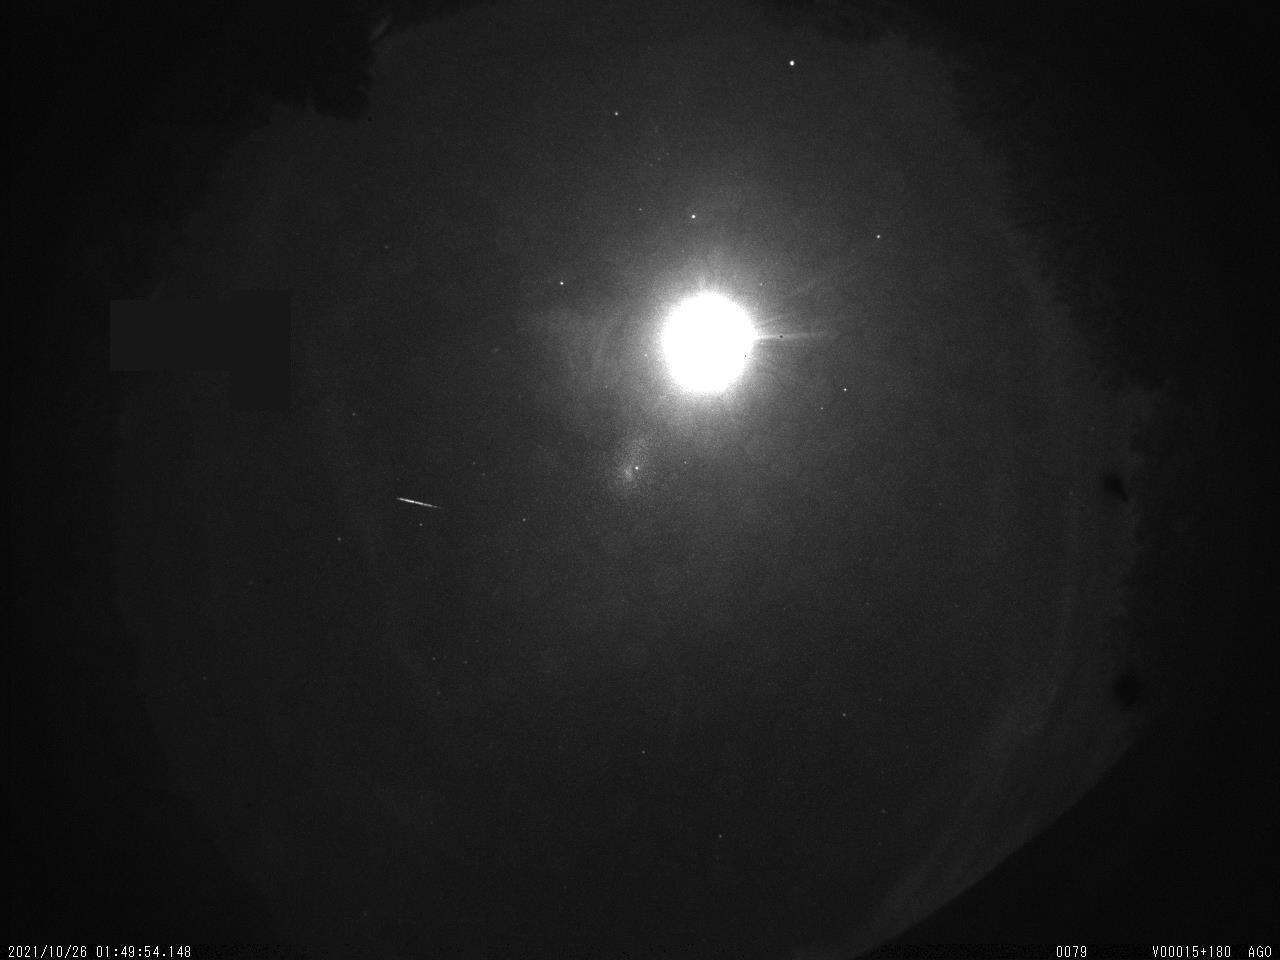meteor: (394, 492, 443, 513)
